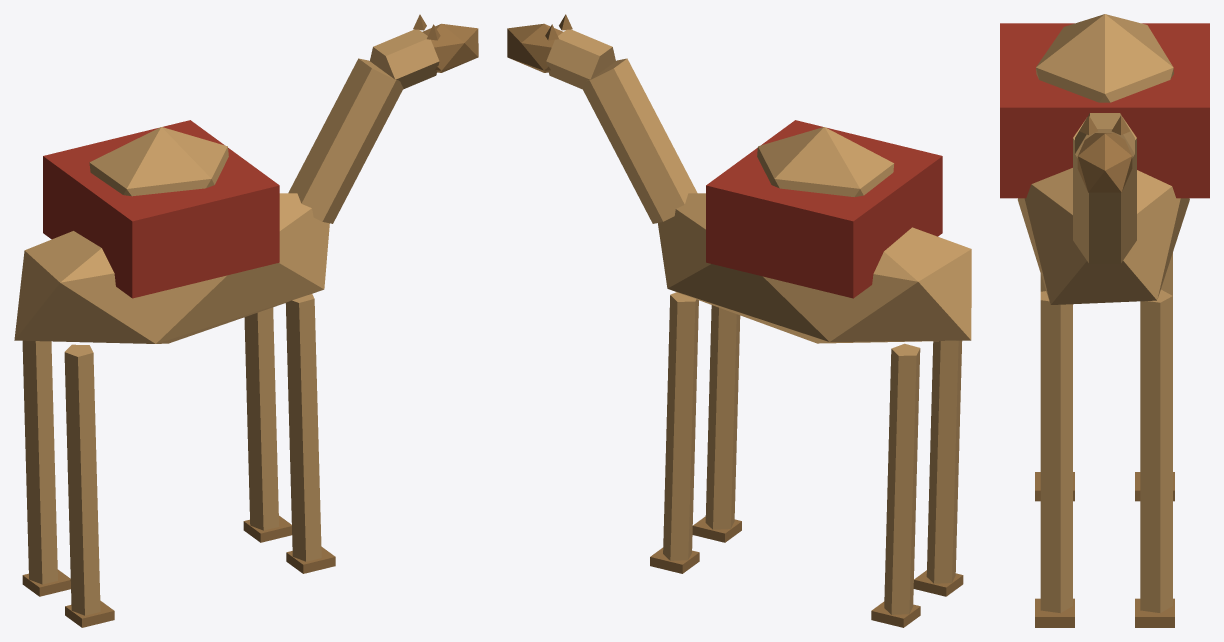
The model's file is kamel.glb.
3 renders of one model, left to right at view 1: azimuth 30°, elevation 25°; view 2: azimuth 150°, elevation 25°; view 3: azimuth 270°, elevation 25°, orthographic. The views are drawn at different scales.
Parts seen in each view (by area): view 1: kamel; view 2: kamel; view 3: kamel.
Part boxes in pixels (x1,y1,x2,y2): kamel: [14, 14, 478, 627]; kamel: [507, 14, 971, 627]; kamel: [1000, 14, 1209, 627].
Bounding box in the file's own units: 3.15 × 3.22 × 1.05.
